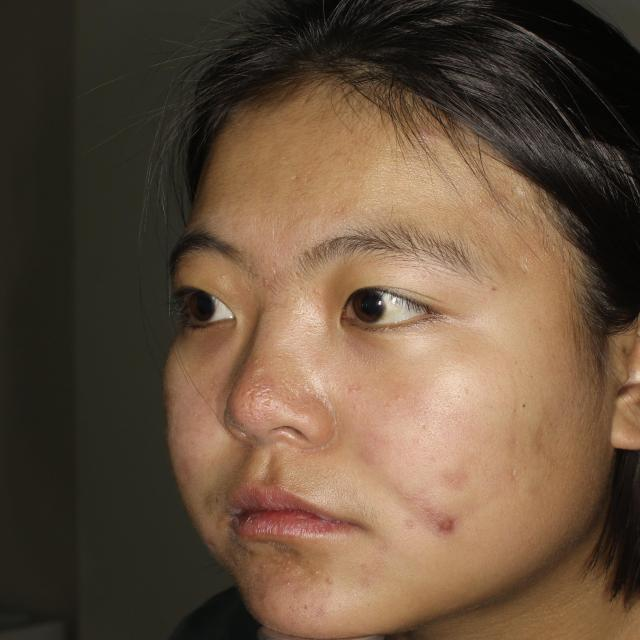acne: (426, 509, 471, 546)
